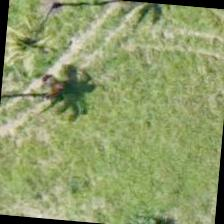Kelapa_Sawit: (5, 0, 99, 59)
